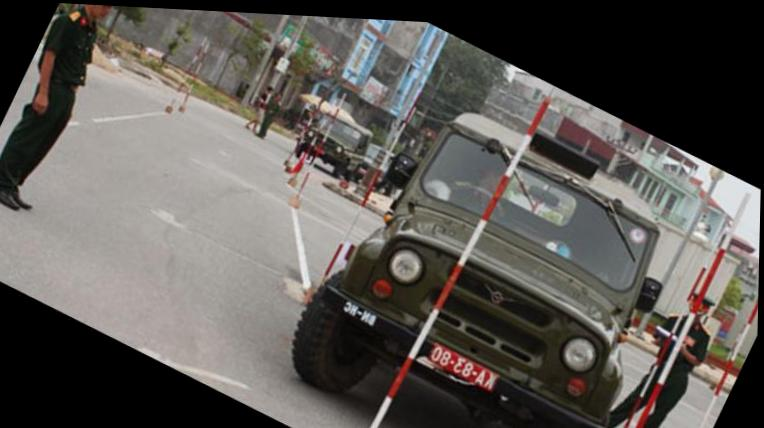License_Plate: (431, 345, 497, 396)
